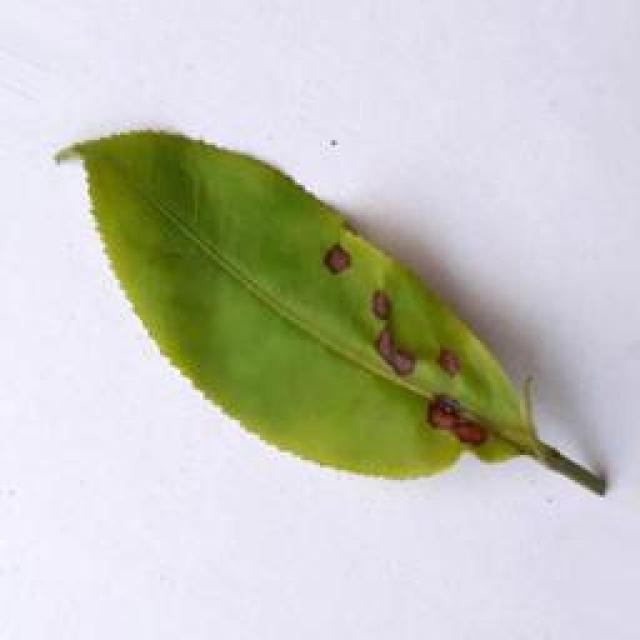Helopeltis: (64, 128, 606, 510)
